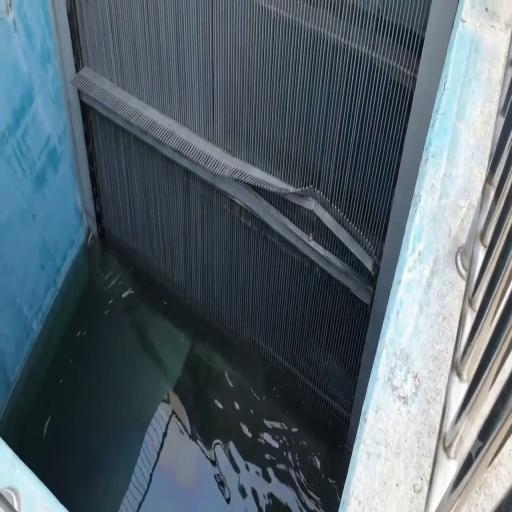rake_broken: (225, 166, 376, 273)
